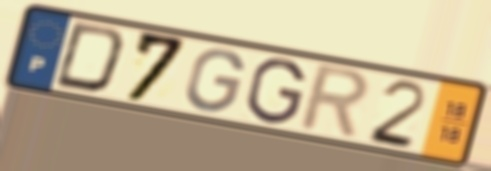2: (366, 78, 429, 152)
7: (124, 29, 189, 106)
D: (50, 19, 129, 96)
G: (243, 56, 309, 126), (183, 47, 248, 115)
R: (294, 61, 373, 143)
